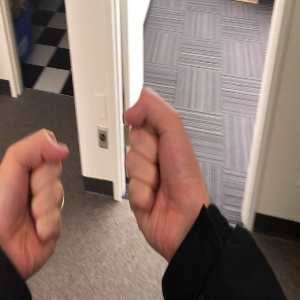hand: (123, 85, 209, 227), (1, 127, 70, 261)
